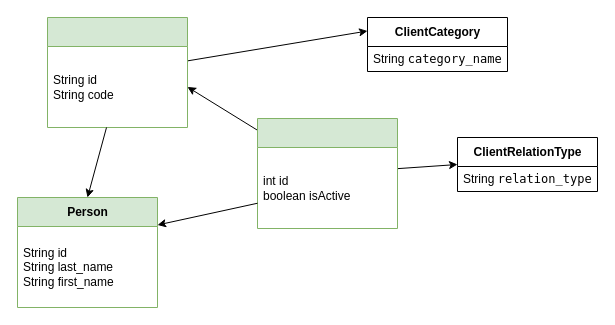
Image size: 615x325. Some labels were removed from this diagram. Here are the shapes that lost their labels. From the top down, the box of each, then its label:
(46, 16, 188, 128): Client
(256, 118, 398, 228): ClientRelated
